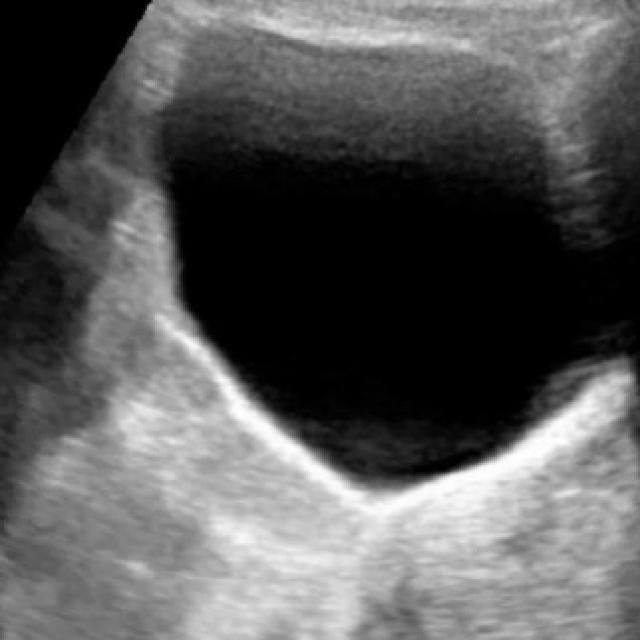bladder: (152, 13, 612, 505)
